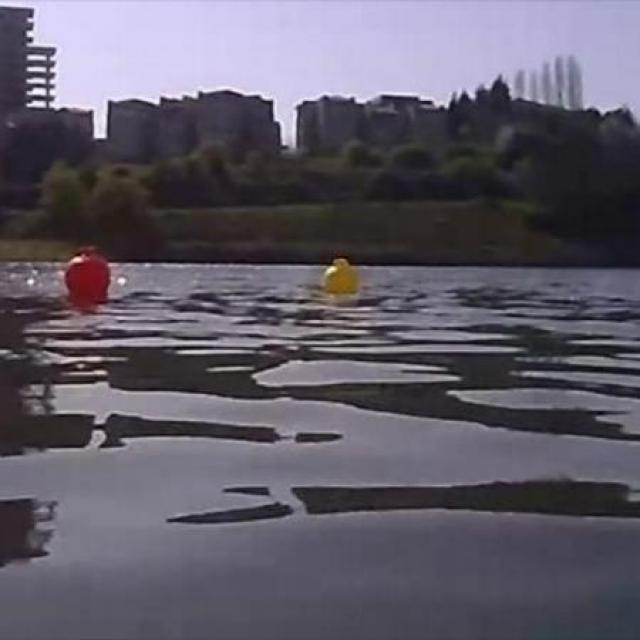buoy: (65, 247, 110, 301), (323, 258, 358, 292)
